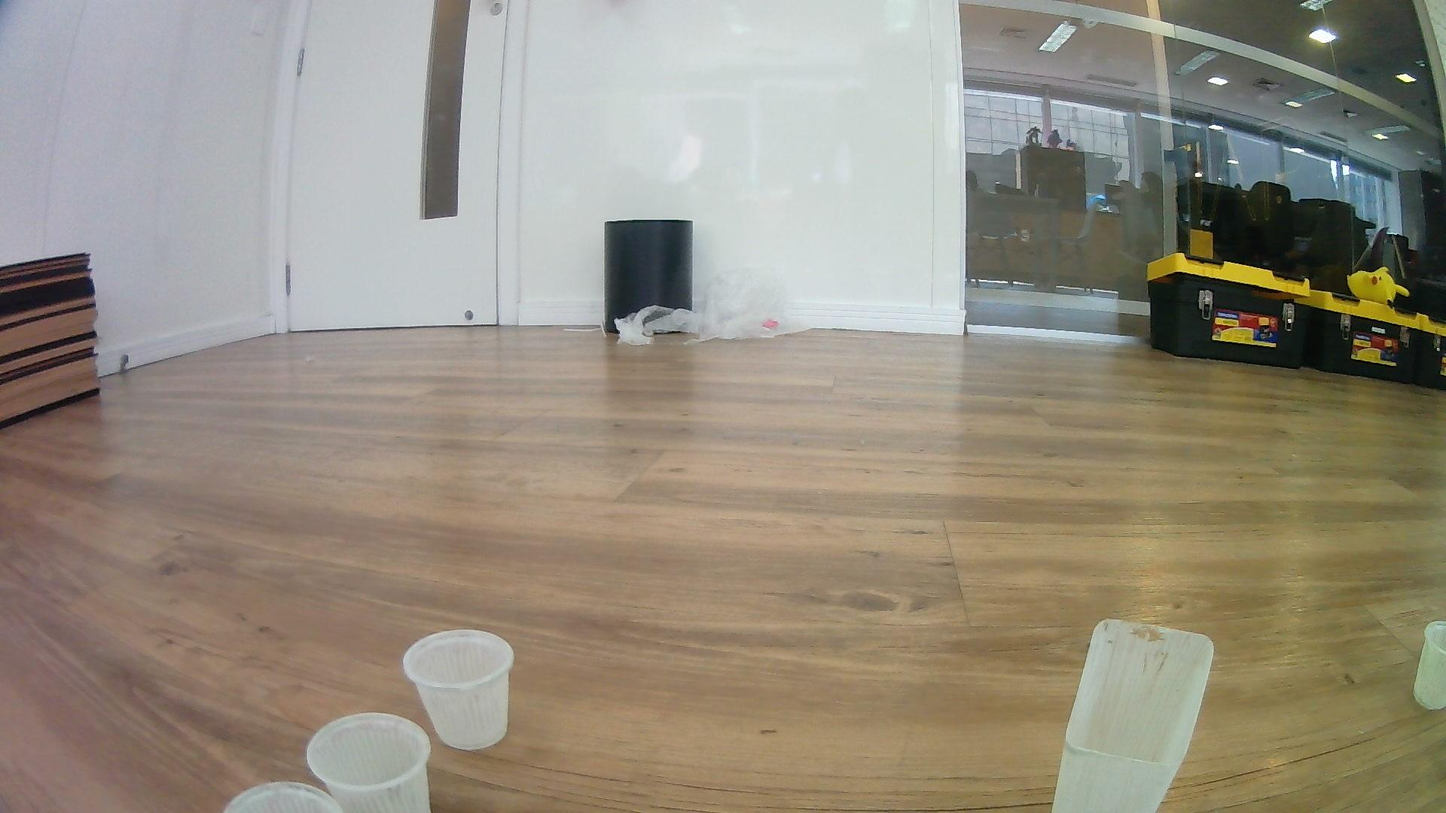erva_daninha: (1050, 617, 1216, 813)
planta: (401, 628, 514, 751), (305, 711, 433, 813), (220, 781, 345, 813), (1413, 620, 1446, 711)
